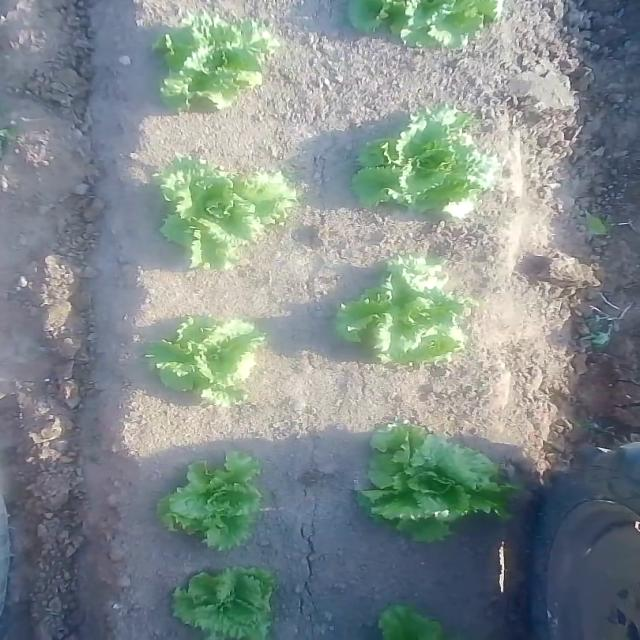Lettuce-Ready-to-Harvest: (129, 150, 311, 270), (341, 269, 477, 363), (372, 439, 488, 538), (157, 19, 270, 120), (362, 115, 484, 206), (163, 471, 273, 550), (178, 577, 274, 640), (159, 330, 245, 397)
